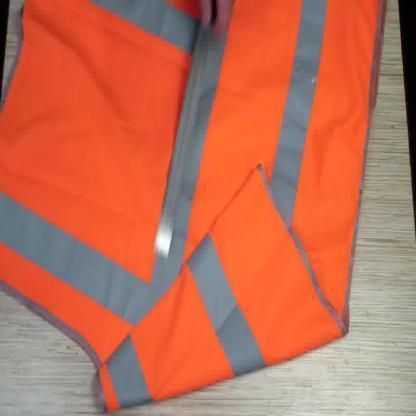vest: (0, 0, 389, 414)
